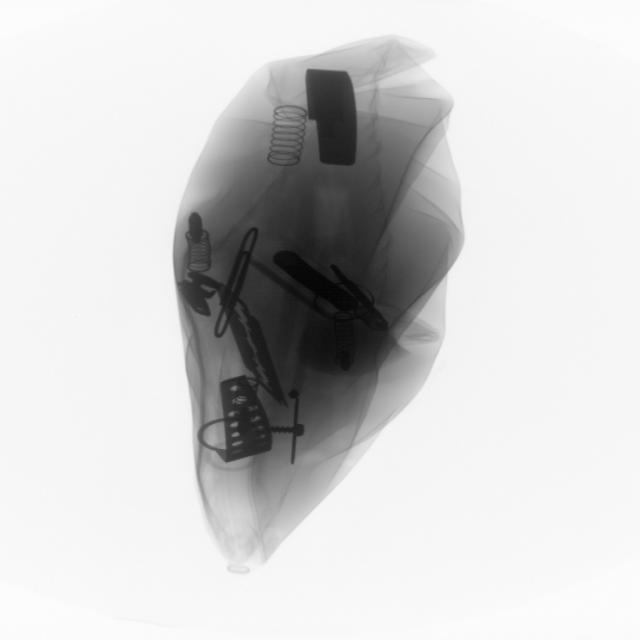BLADE: (221, 291, 293, 415)
